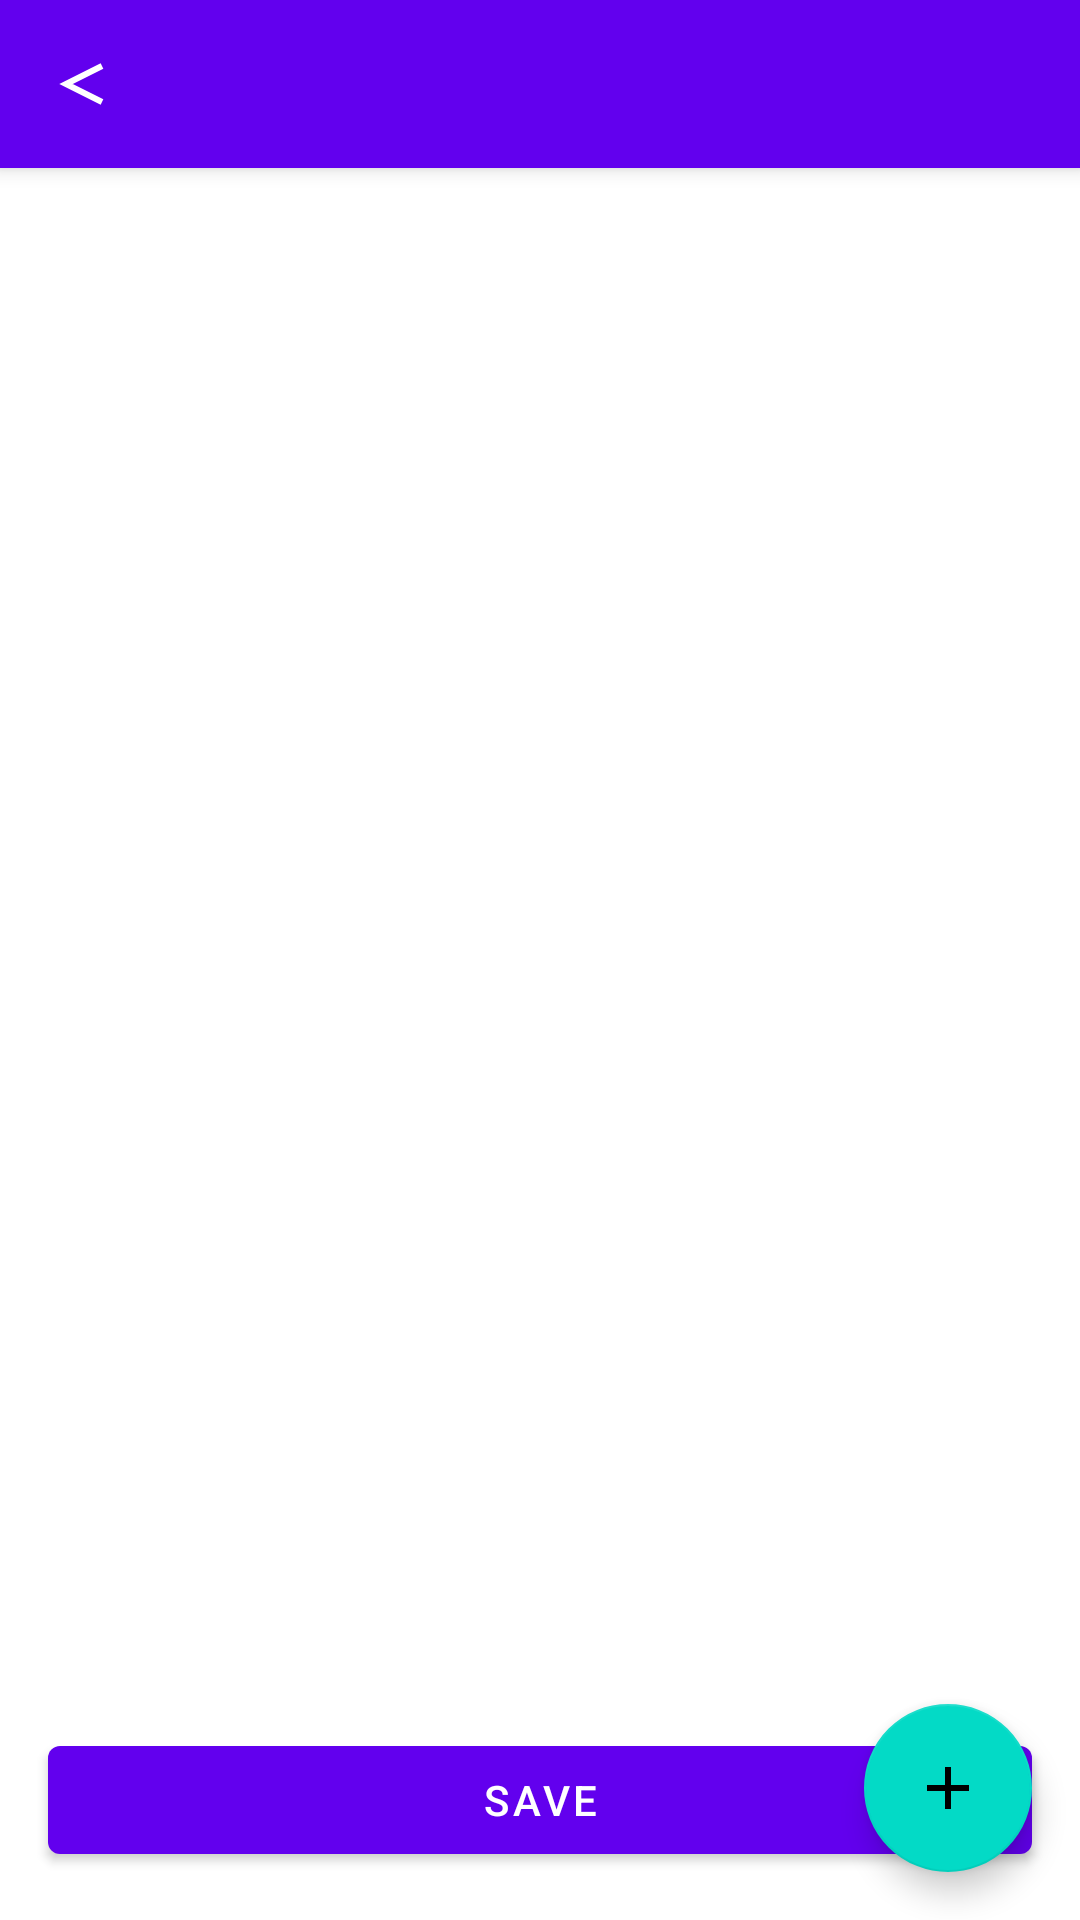

Icons on this 1080w x 1920h Android screen, each with the point to tap as [x,y]:
Add recipe to meal plan: [948,1788]
